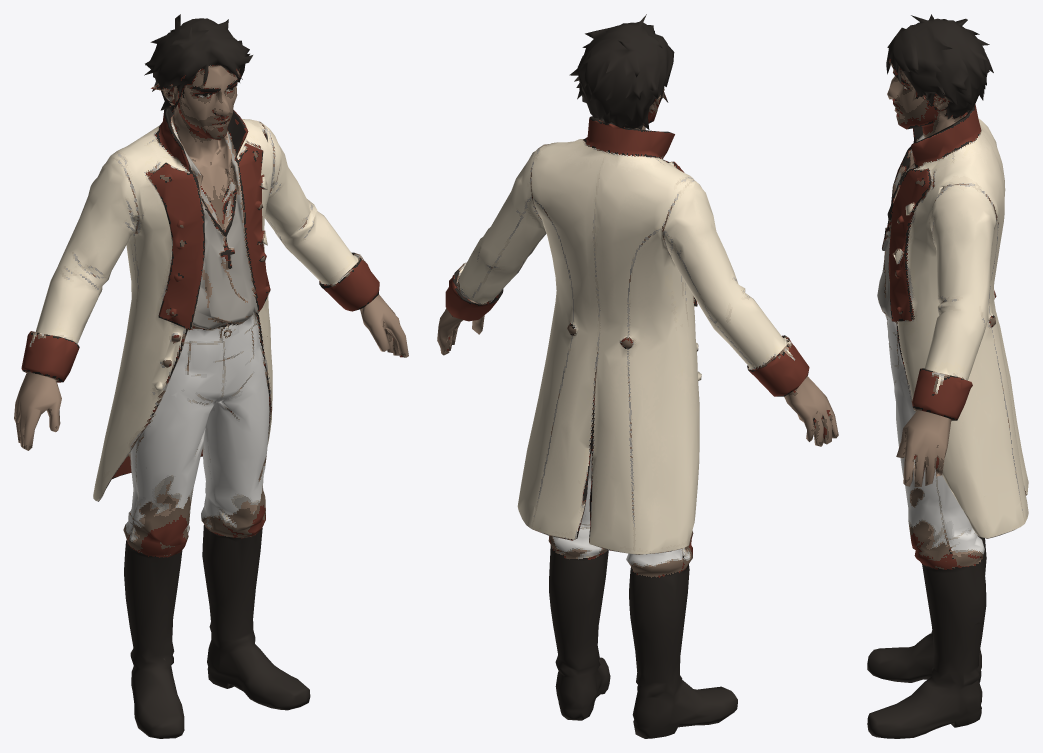
Rendered from mateo.glb.
The picture shows the model from 3 angles, left to right: view 1: azimuth 30°, elevation 25°; view 2: azimuth 150°, elevation 25°; view 3: azimuth 270°, elevation 25°; orthographic projection.
Parts seen in each view (by area): view 1: tripo_node_747cf850-c2d0-4da7-9526-3cfde9181d55; view 2: tripo_node_747cf850-c2d0-4da7-9526-3cfde9181d55; view 3: tripo_node_747cf850-c2d0-4da7-9526-3cfde9181d55.
Part boxes in pixels (box(x1,y1,x2,y2)): tripo_node_747cf850-c2d0-4da7-9526-3cfde9181d55: box(14, 14, 408, 738); tripo_node_747cf850-c2d0-4da7-9526-3cfde9181d55: box(437, 14, 838, 738); tripo_node_747cf850-c2d0-4da7-9526-3cfde9181d55: box(867, 14, 1028, 738).
Bounding box in the file's own units: 0.5902 × 1 × 0.214.
Materials: 1 (1 with a texture image).
